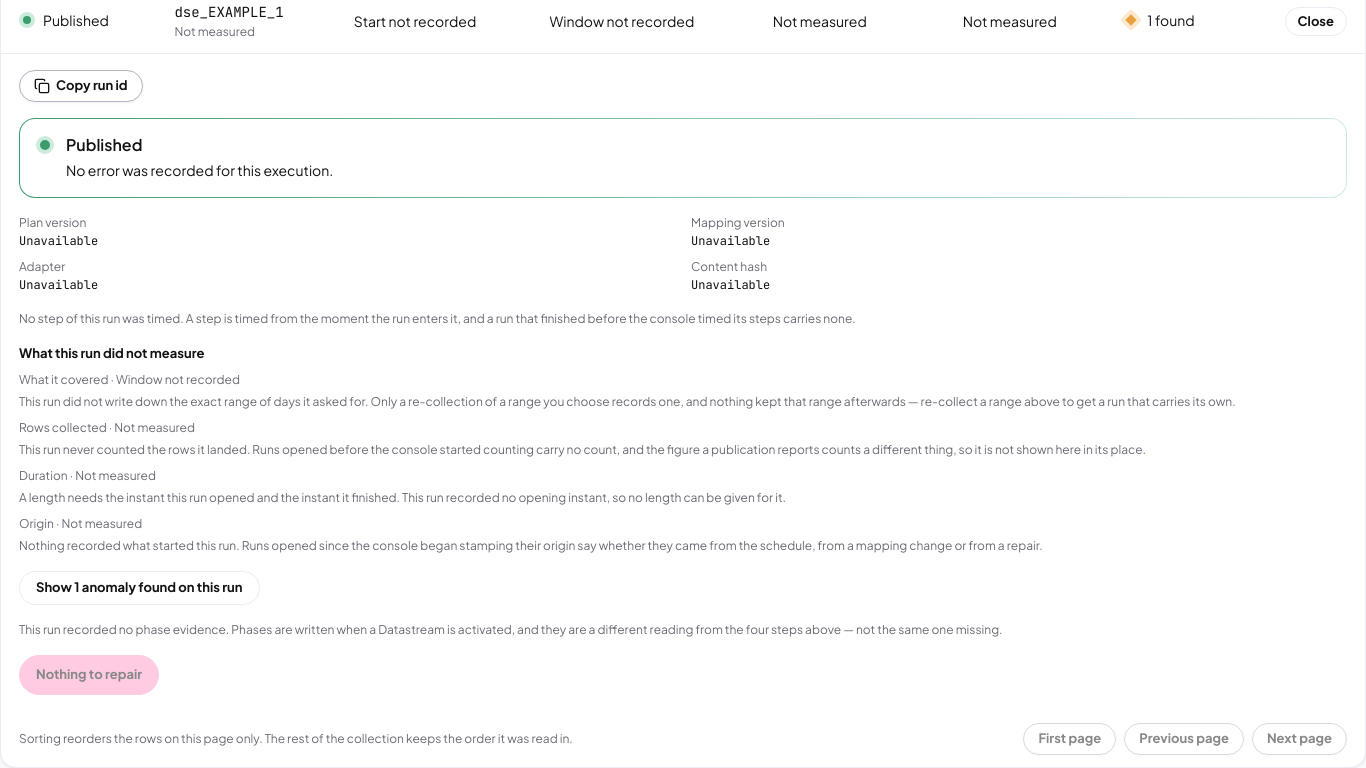
Test: Runs tab — the anomaly panel, story 59.1 › shows the issue's monitor, severity and dates inside the run block
(page scrolled)
Click the button with test id "run-anomalies-trigger" at (139, 588), box top-left (19, 571), bottom-right (260, 605)
(page scrolled)
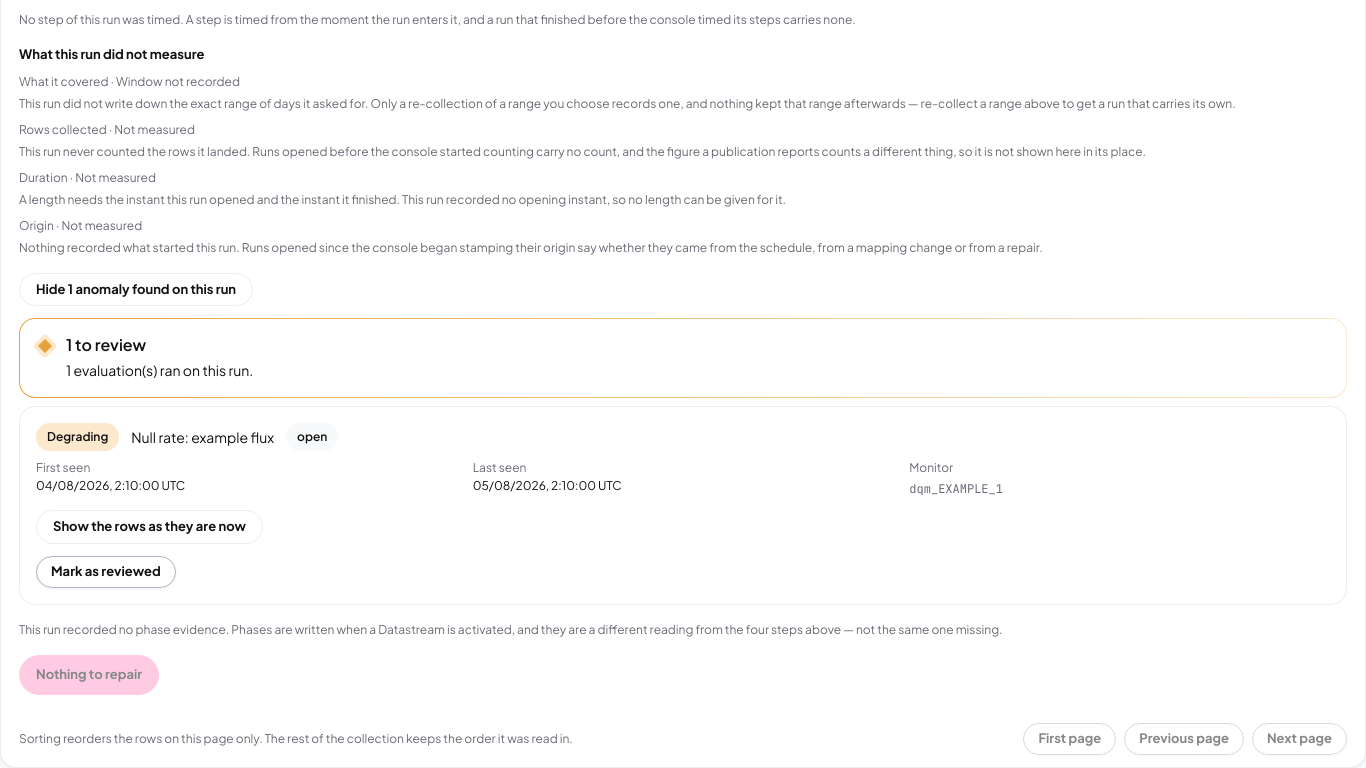
Now the text with test id "run-anomaly-monitor" reads "Null rate: example flux", box top-left (131, 428), bottom-right (274, 446)
Now the element with test id "run-anomaly" shows "Degrading", box top-left (47, 429), bottom-right (108, 444)
